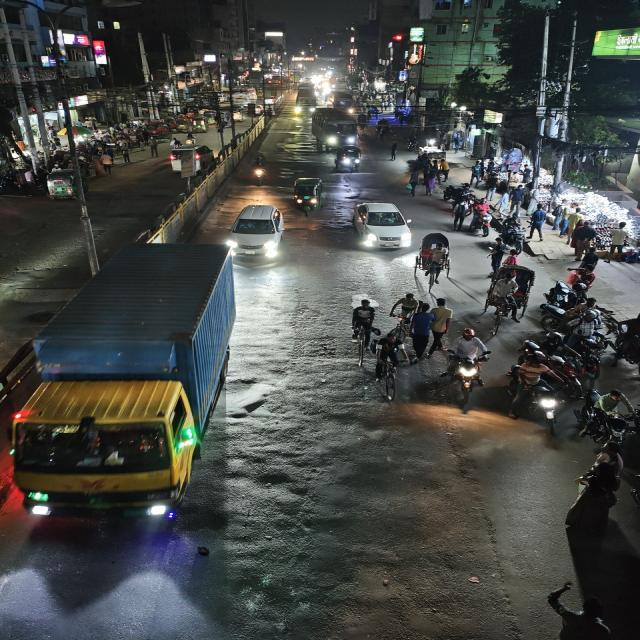bicycle: (486, 264, 535, 324), (372, 334, 402, 405), (346, 301, 374, 371)
bus: (309, 107, 360, 149)
car: (226, 201, 288, 258), (350, 198, 414, 252), (165, 142, 219, 176)
cng: (291, 175, 328, 213), (44, 170, 85, 202), (334, 145, 364, 173)
motorcycle: (502, 365, 564, 431), (576, 386, 638, 448), (543, 328, 600, 388), (445, 327, 489, 395), (500, 212, 528, 254), (468, 195, 496, 237), (248, 154, 270, 188), (183, 132, 197, 146)
pedestrian: (546, 463, 640, 615), (538, 582, 630, 640), (428, 296, 453, 350), (411, 301, 433, 359), (576, 235, 600, 283), (607, 222, 631, 264), (571, 219, 595, 259), (528, 203, 549, 241), (405, 169, 420, 197), (387, 140, 400, 162)
rickshaw: (484, 264, 535, 324), (412, 230, 454, 286)
truck: (16, 240, 243, 518)
